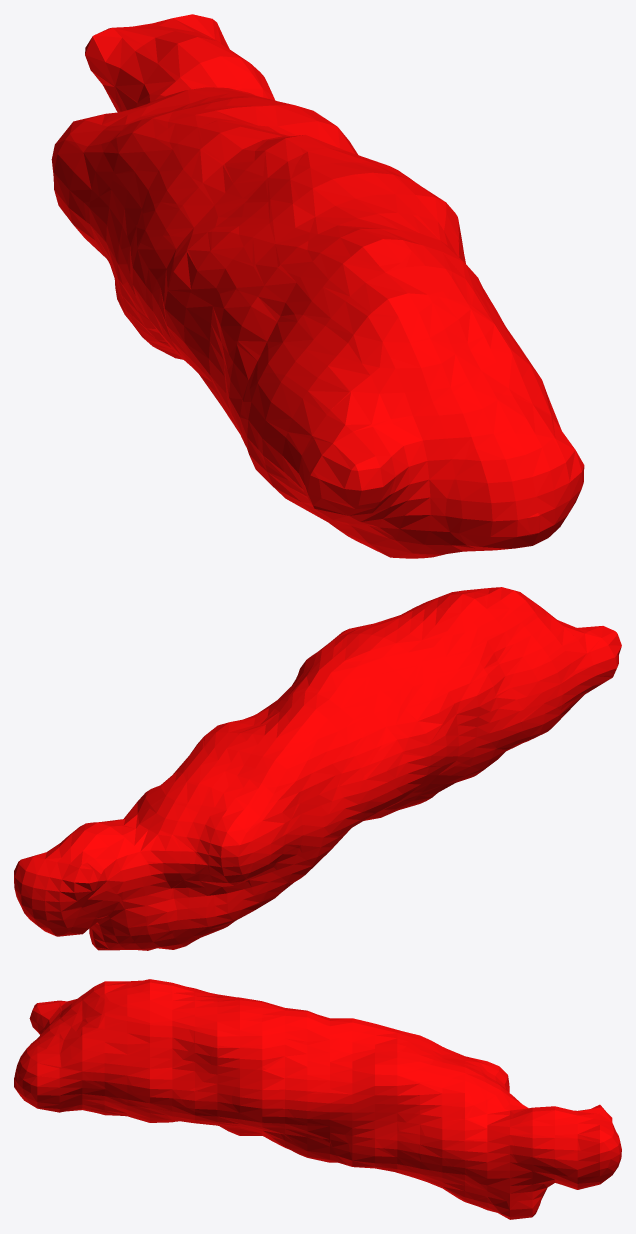
The model's file is Vesicle_associated_membrane_pr_3_coarse.dae.
The picture shows the model from 3 angles, top to bottom: view 1: azimuth 30°, elevation 25°; view 2: azimuth 150°, elevation 25°; view 3: azimuth 270°, elevation 25°; orthographic projection. The views are drawn at different scales.
Visible parts, largest first — view 1: Vesicle_associated_membrane_pr_3; view 2: Vesicle_associated_membrane_pr_3; view 3: Vesicle_associated_membrane_pr_3.
Part boxes in pixels (<box>): Vesicle_associated_membrane_pr_3: <box>51,14,584,558</box>; Vesicle_associated_membrane_pr_3: <box>14,587,621,950</box>; Vesicle_associated_membrane_pr_3: <box>14,979,621,1219</box>.
Size of the model in its own units: 52.17 by 41.02 by 120.
